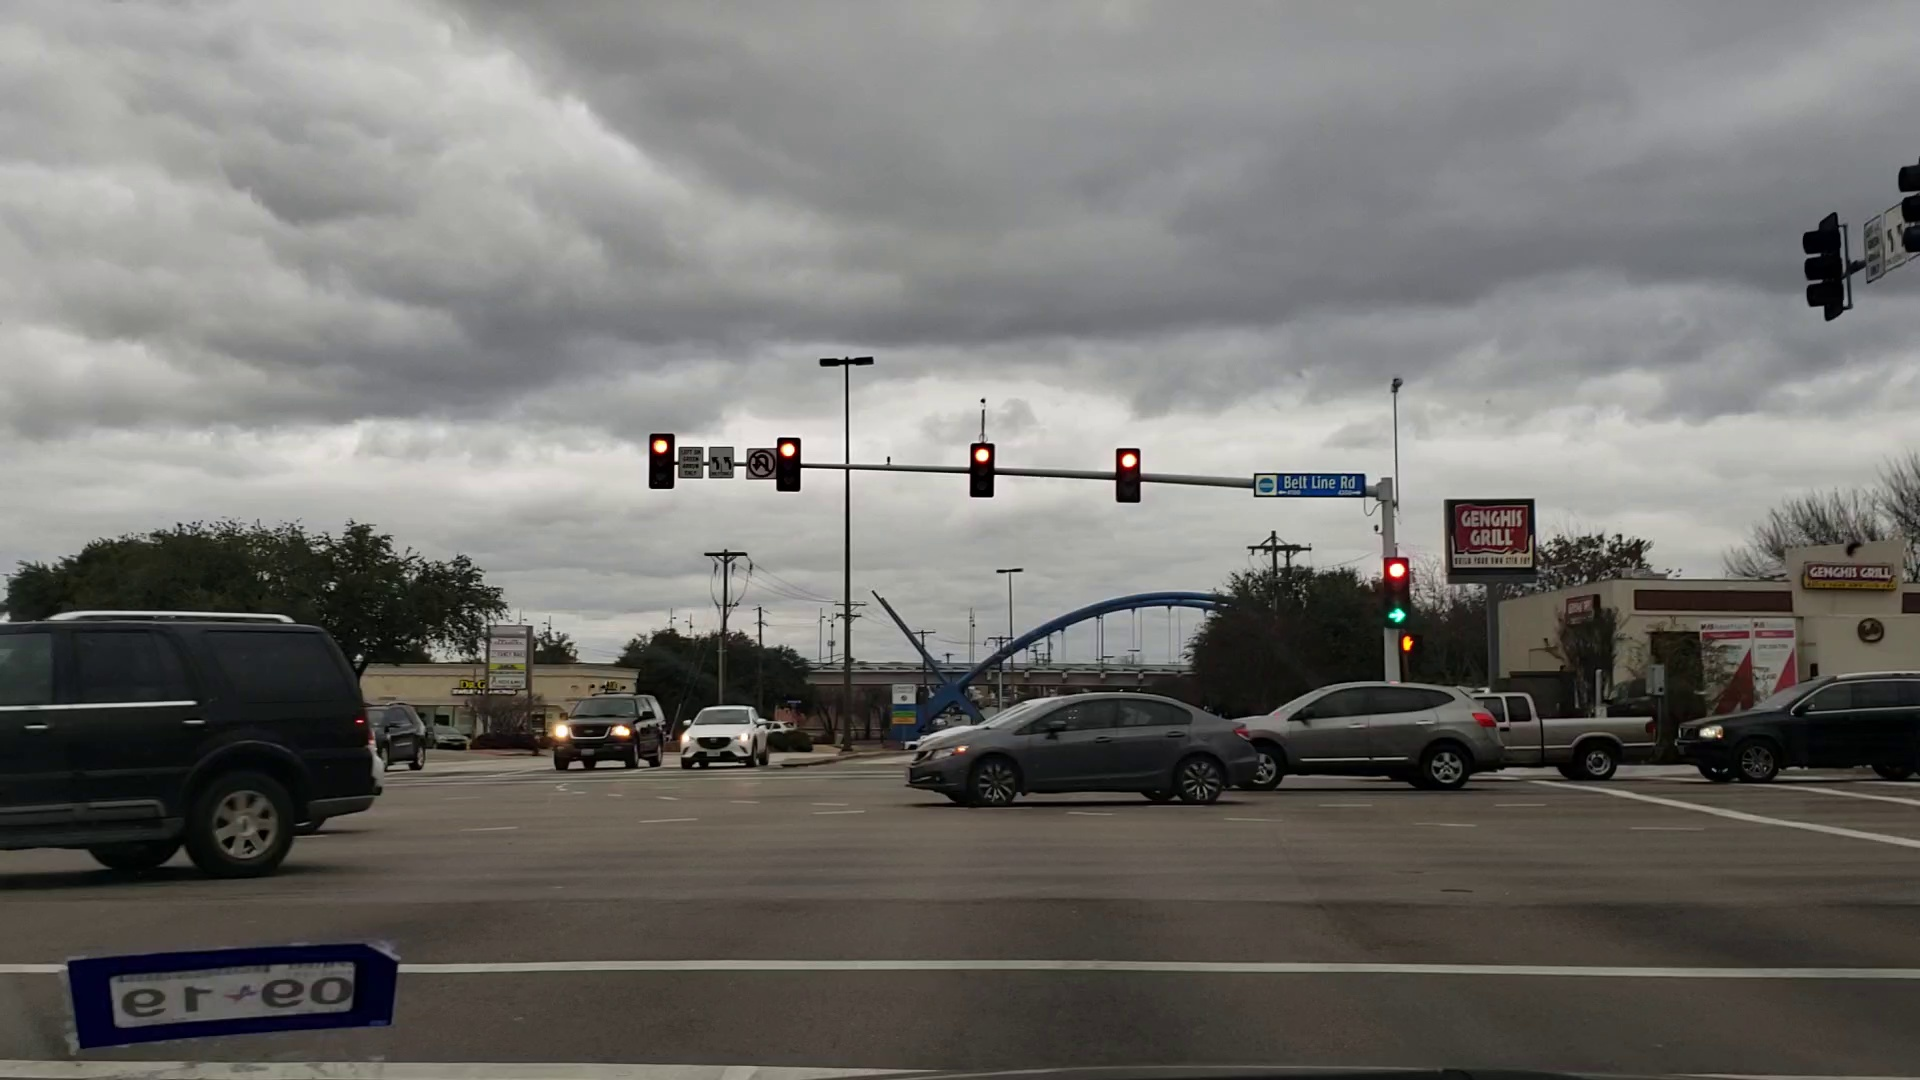car: (3, 604, 390, 877), (905, 694, 1262, 804), (1236, 675, 1506, 796), (1688, 670, 1920, 793), (558, 688, 663, 766), (363, 690, 436, 781), (683, 694, 773, 767), (425, 712, 469, 758)
traffic light: (1801, 214, 1846, 313), (969, 435, 997, 502), (775, 436, 804, 495), (1386, 562, 1411, 621), (651, 433, 673, 491), (1120, 447, 1139, 504)
truck: (1458, 661, 1677, 789)
